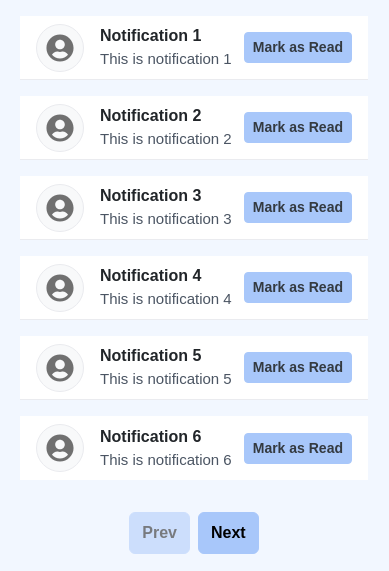
Test case: Notification Component › should handle pagination
The width and height of the screenshot is (389, 571).
Expected: the text "Notification 1" is shown, [100,27,201,44]
Click the button "Next": {"x": 228, "y": 533} [198,512,259,554]
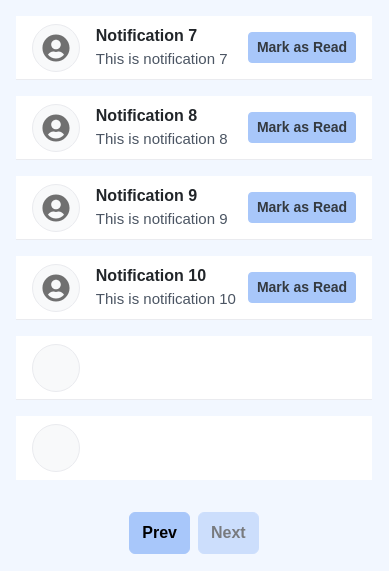
Now the text "Notification 8" is shown, box [96,107,197,124]
Click the button "Prev": {"x": 160, "y": 533} [129,512,190,554]
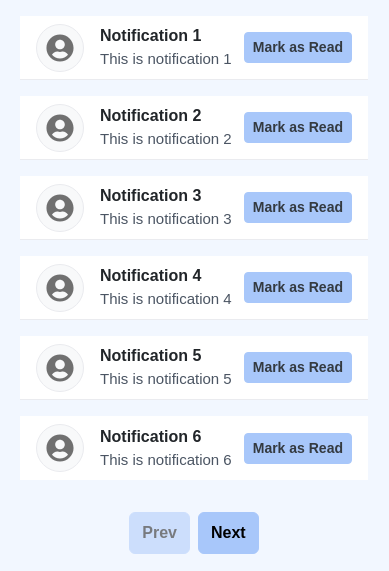
Now the text "Notification 1" is shown, box [100,27,201,44]
